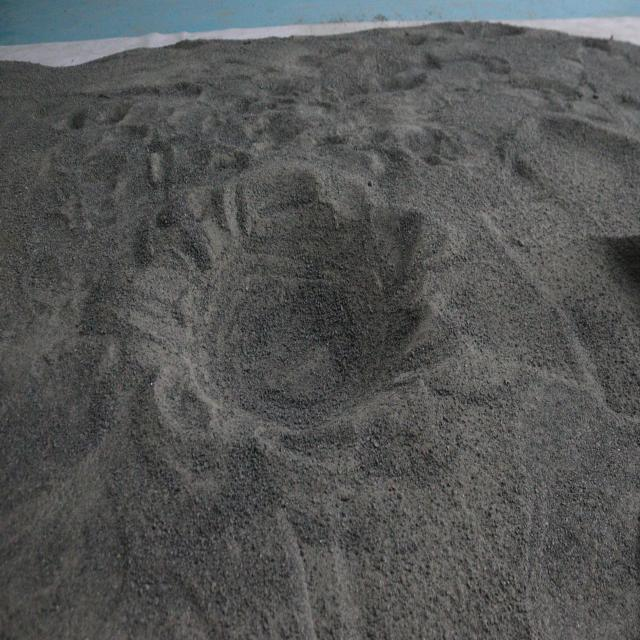crater: (118, 157, 464, 512)
